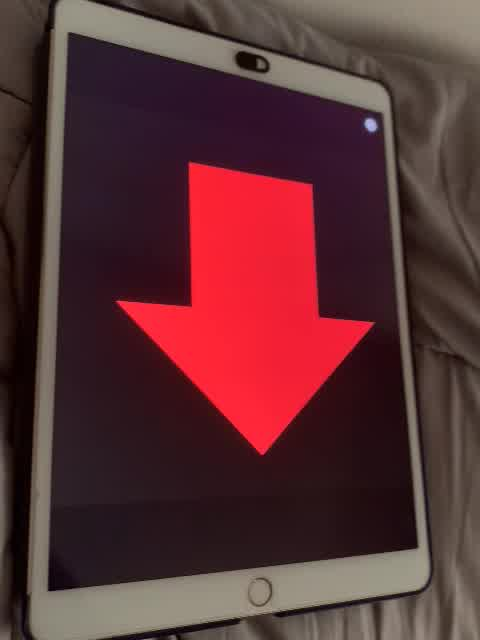down: (104, 156, 375, 464)
